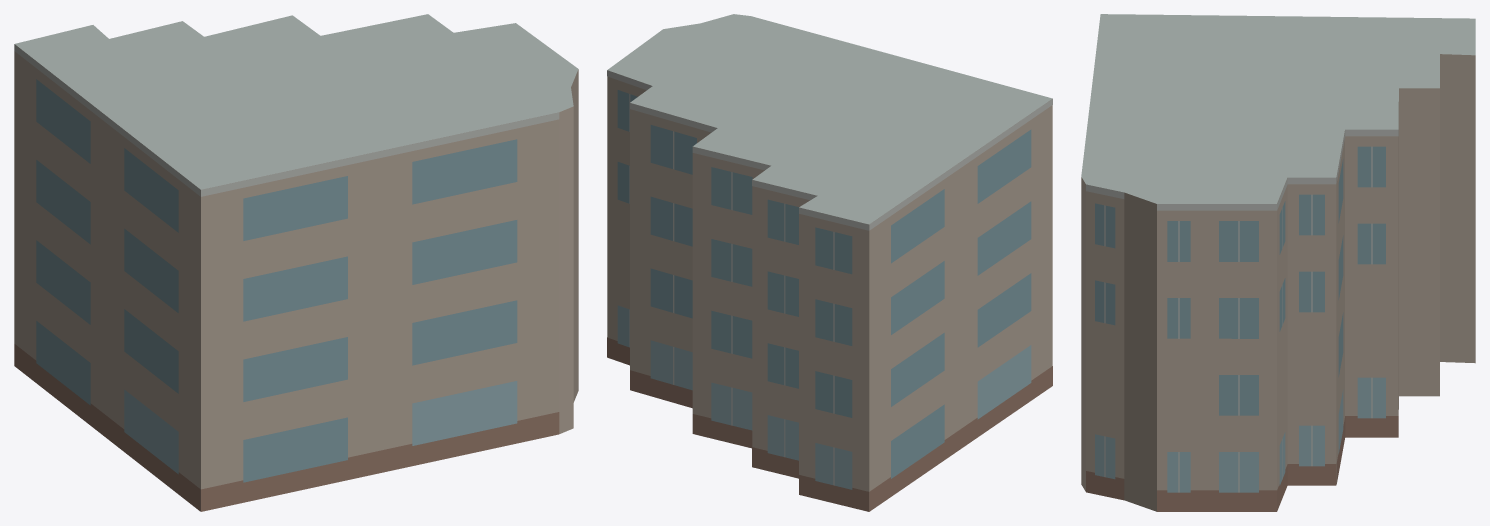
The model's file is survey-upis-32859461.glb.
3 views of the same model, side by side, from view 1: azimuth 30°, elevation 25°; view 2: azimuth 150°, elevation 25°; view 3: azimuth 270°, elevation 25° (orthographic). The views are drawn at different scales.
Parts seen in each view (by area): view 1: survey-upis-32859461.tmp; view 2: survey-upis-32859461.tmp; view 3: survey-upis-32859461.tmp.
Boxes of the visible parts, x1=… form: survey-upis-32859461.tmp: x1=14, y1=14, x2=578, y2=511; survey-upis-32859461.tmp: x1=607, y1=14, x2=1052, y2=511; survey-upis-32859461.tmp: x1=1081, y1=14, x2=1475, y2=511.
Bounding box in the file's own units: 14.7 × 11.1 × 12.9.
